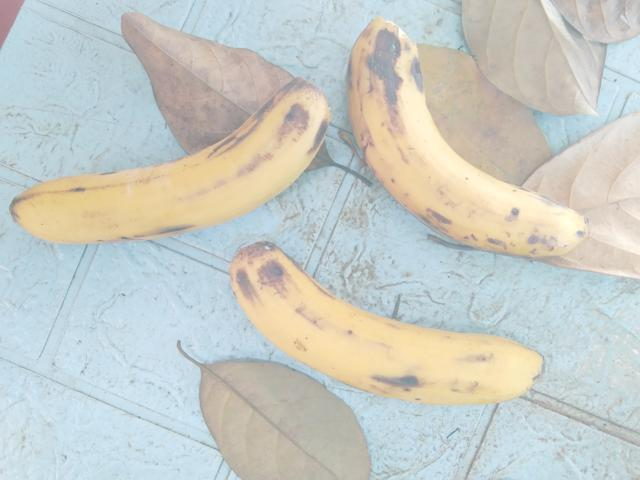overripe: (349, 11, 587, 271)
ripe: (222, 239, 551, 435), (16, 70, 327, 259)
